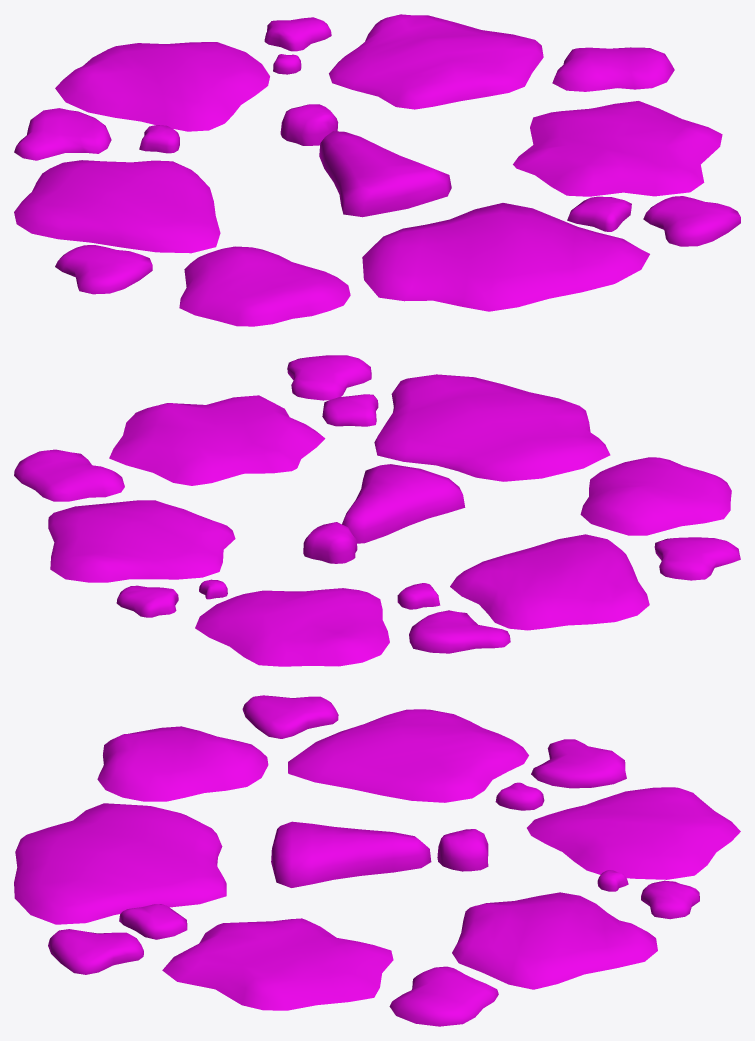
The model's file is INT_BaseVineHazard.fbx.
3 views of the same model, one above another, from view 1: azimuth 30°, elevation 25°; view 2: azimuth 150°, elevation 25°; view 3: azimuth 270°, elevation 25° (orthographic). The views are drawn at different scales.
Visible parts, largest first — view 1: m_BaseVines; view 2: m_BaseVines; view 3: m_BaseVines.
Boxes of the visible parts, box(x1,y1,x2,y2) form: m_BaseVines: box(14, 14, 740, 326); m_BaseVines: box(14, 355, 740, 666); m_BaseVines: box(14, 695, 740, 1026).
Bounding box in the file's own units: 566 × 22.06 × 532.
